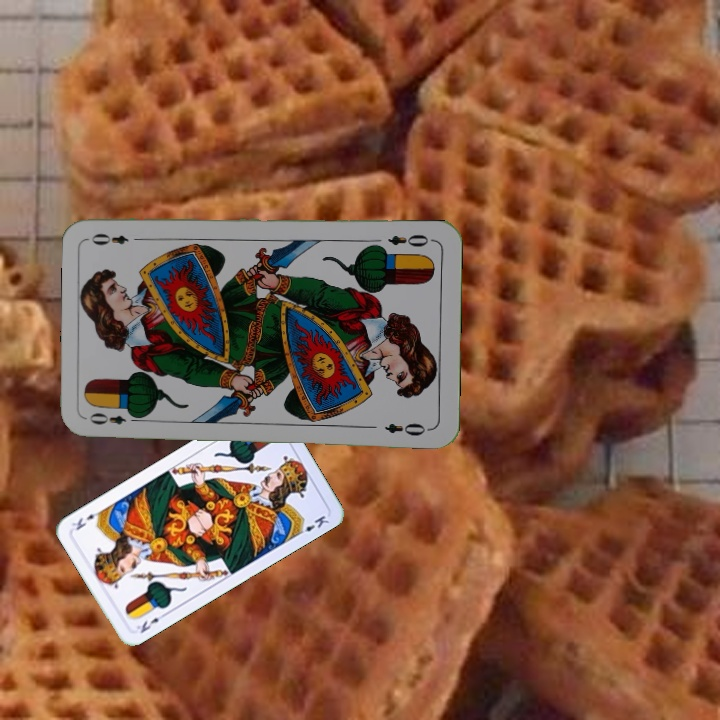EK: (132, 609, 169, 636)
EO: (85, 408, 143, 427), (384, 230, 436, 249)
